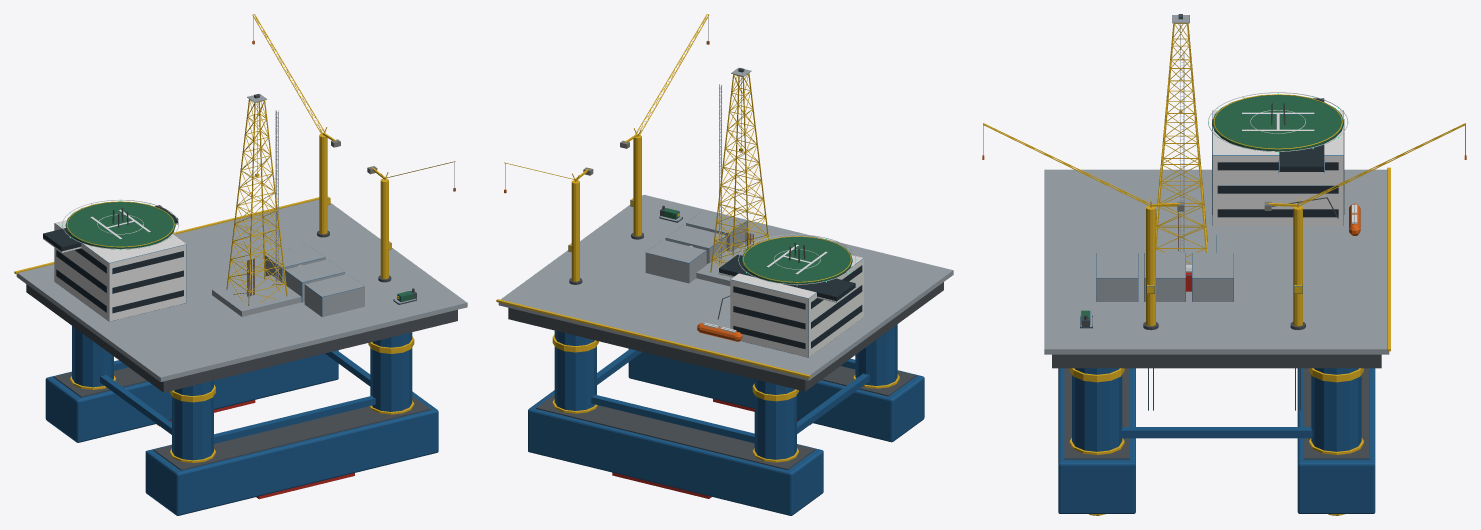
The model's file is off_semi_submersible.glb.
3 views of the same model, side by side, from view 1: azimuth 30°, elevation 25°; view 2: azimuth 150°, elevation 25°; view 3: azimuth 270°, elevation 25° (orthographic). The views are drawn at different scales.
Visible parts, largest first — view 1: off_semi_submersible; view 2: off_semi_submersible; view 3: off_semi_submersible.
Boxes of the visible parts, box(x1,y1,x2,y2) form: off_semi_submersible: box(14, 14, 467, 515); off_semi_submersible: box(496, 14, 953, 515); off_semi_submersible: box(982, 14, 1466, 515).
Bounding box in the file's own units: 71.78 × 79.23 × 80.93.
